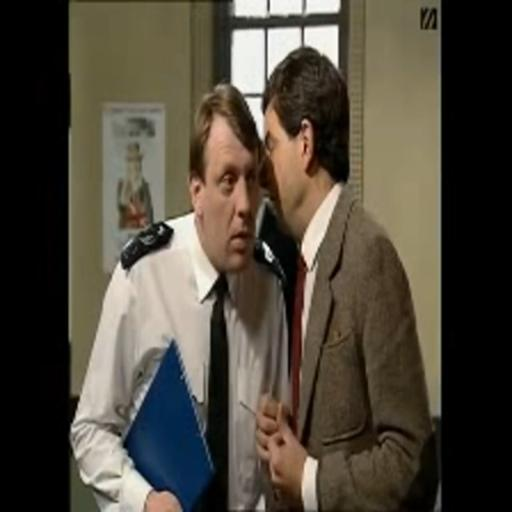nao-violencia: (68, 40, 442, 512)
